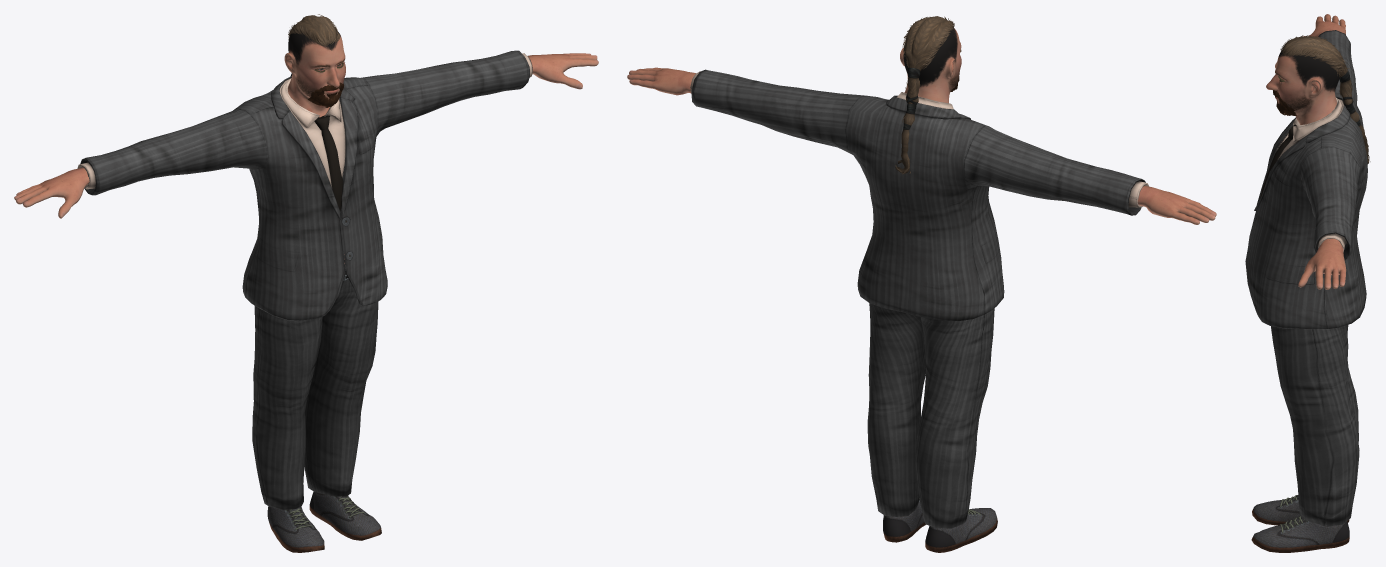
3 renders of one model, left to right at view 1: azimuth 30°, elevation 25°; view 2: azimuth 150°, elevation 25°; view 3: azimuth 270°, elevation 25°, orthographic. The views are drawn at different scales.
Parts seen in each view (by area): view 1: Tops, Bottoms, Body, Shoes, Hair; view 2: Tops, Bottoms, Body, Hair, Shoes; view 3: Tops, Bottoms, Body, Shoes, Hair.
Boxes of the visible parts, left/top/right/bottom form: Tops: left=77, top=50, right=532, bottom=320; Bottoms: left=252, top=264, right=378, bottom=510; Body: left=14, top=28, right=598, bottom=263; Shoes: left=267, top=491, right=381, bottom=552; Hair: left=288, top=14, right=339, bottom=76; Tops: left=690, top=69, right=1148, bottom=320; Bottoms: left=867, top=303, right=994, bottom=528; Body: left=627, top=27, right=1216, bottom=224; Hair: left=895, top=16, right=954, bottom=174; Shoes: left=883, top=498, right=997, bottom=552; Tops: left=1245, top=30, right=1367, bottom=329; Bottoms: left=1271, top=325, right=1359, bottom=526; Body: left=1266, top=14, right=1346, bottom=289; Shoes: left=1251, top=495, right=1349, bottom=552; Hair: left=1280, top=35, right=1370, bottom=163.
Bounding box in the file's own units: 213 × 179 × 41.25.
Materials: 7 (7 with a texture image).
